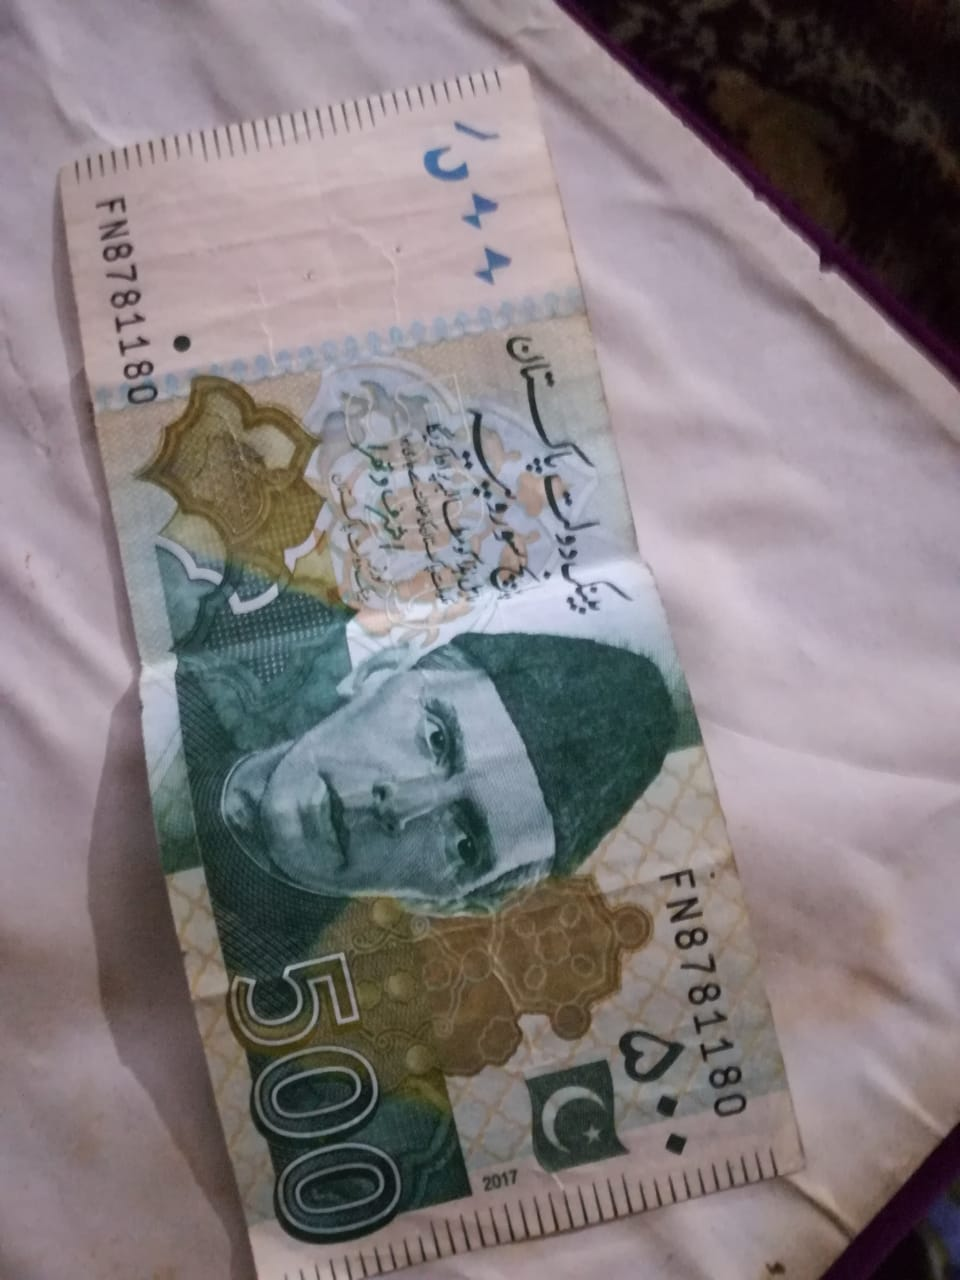500 rupee: (44, 93, 839, 1239)
